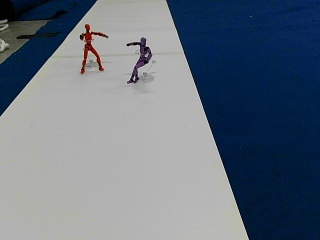pedestrian: (79, 23, 109, 73), (126, 37, 152, 83)
